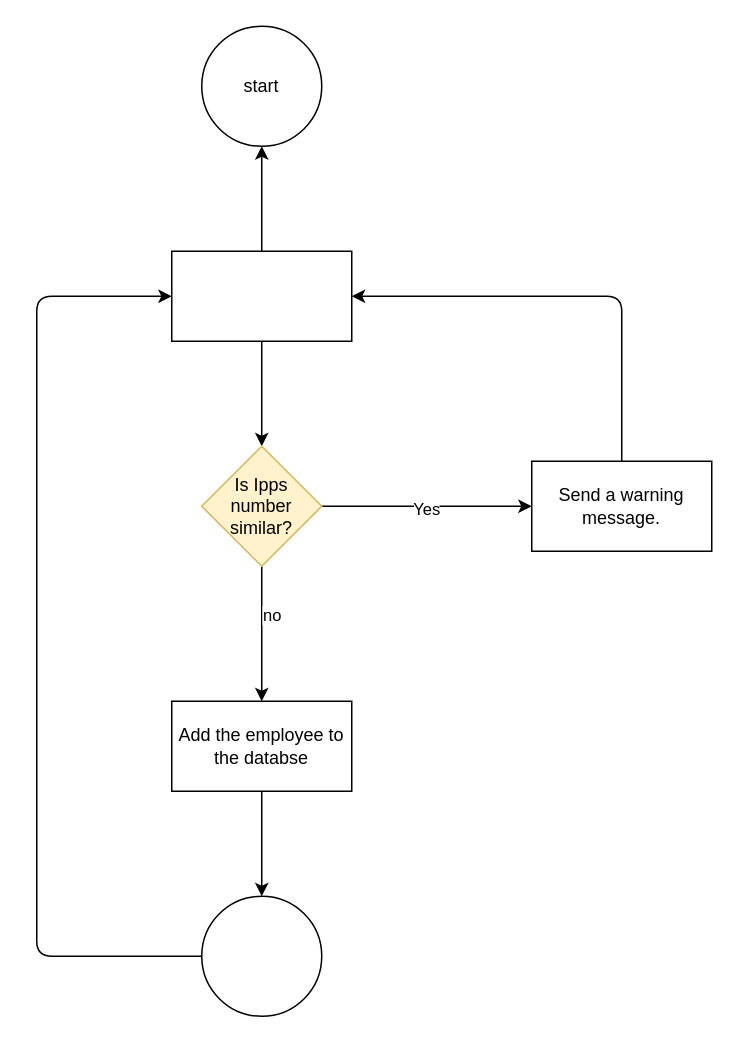
Image size: 738x1043. Some labels were removed from this diagram. Each missing label, with the box of its shape:
Register Employee: (170, 250, 352, 341)
Stop: (200, 895, 322, 1016)
